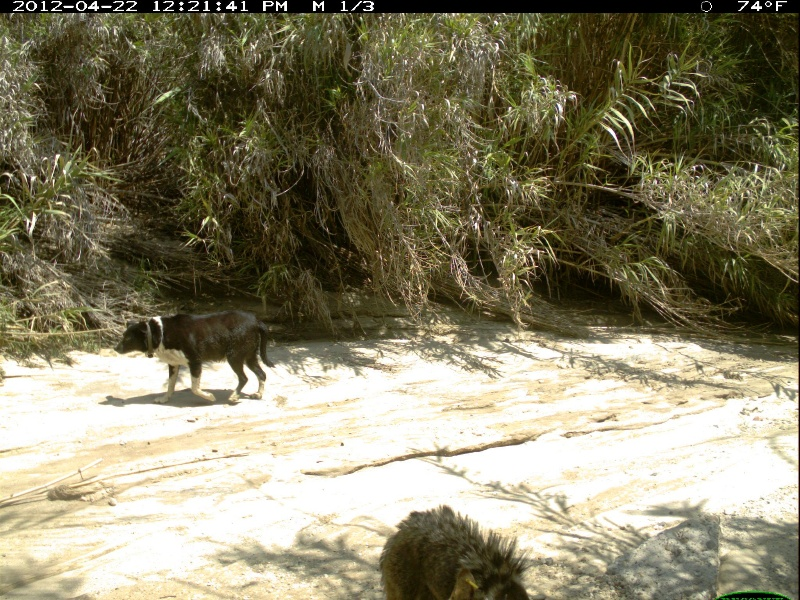dog: (113, 304, 282, 405), (364, 501, 534, 600)
